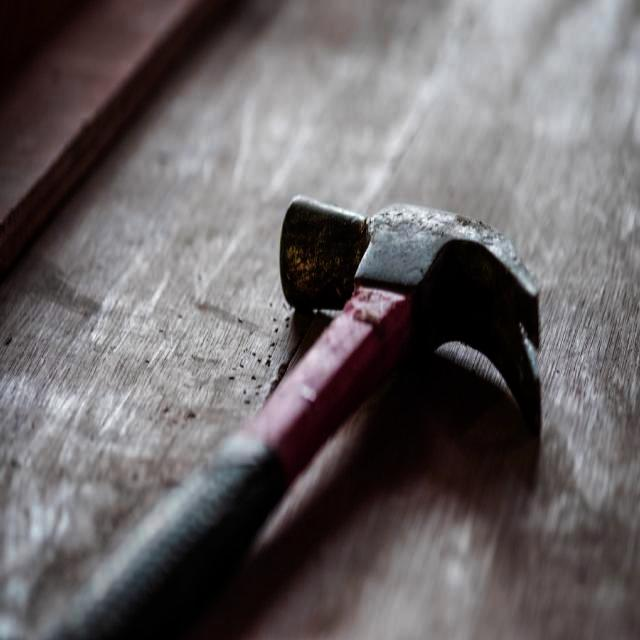hammer: (0, 189, 555, 640)
